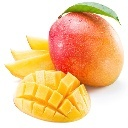mango: (48, 10, 125, 89), (13, 70, 92, 123)
